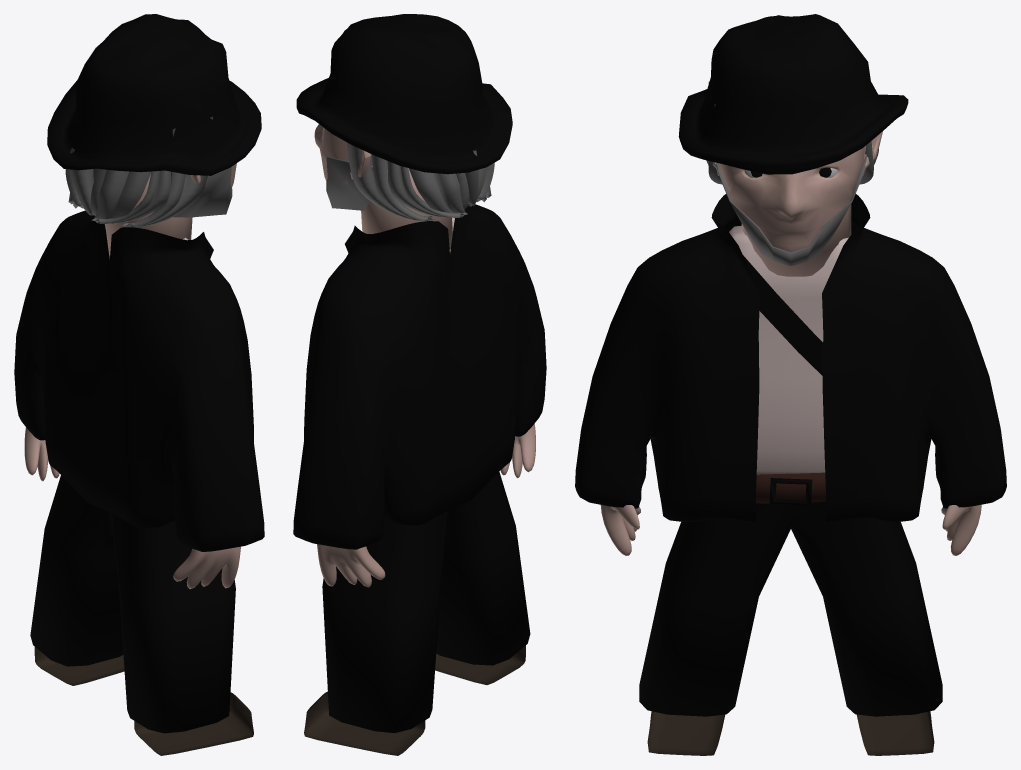
File: character6.fbx
3 views of the same model, side by side, from view 1: azimuth 30°, elevation 25°; view 2: azimuth 150°, elevation 25°; view 3: azimuth 270°, elevation 25° (orthographic). The views are drawn at different scales.
Parts seen in each view (by area): view 1: Cube.018, Cube.020, Sphere.006, Cube.019, Cube.024, BezierCurve.014, BezierCurve.007, Plane.015, BezierCurve.013, Cylinder.005, BezierCurve.016; view 2: Cube.018, Cube.020, Sphere.006, Cube.019, Cube.024, BezierCurve.007, BezierCurve.014, Plane.015, Cylinder.005, BezierCurve.013, Object_low.001, BezierCurve.015; view 3: Cube.018, Cube.020, Sphere.006, Cube.017, Object_low.001, Cube.019, Cube.024, Plane.022, Plane.015, Cube.030, Cylinder.005.
Part boxes in pixels (bbox=[...]): Cube.018: bbox=[14, 210, 264, 551]; Cube.020: bbox=[30, 475, 235, 733]; Sphere.006: bbox=[47, 14, 261, 175]; Cube.019: bbox=[34, 647, 253, 755]; Cube.024: bbox=[24, 427, 240, 588]; BezierCurve.014: bbox=[65, 169, 151, 219]; BezierCurve.007: bbox=[122, 116, 212, 227]; Plane.015: bbox=[171, 167, 232, 217]; BezierCurve.013: bbox=[68, 170, 170, 223]; Cylinder.005: bbox=[104, 174, 192, 255]; BezierCurve.016: bbox=[69, 148, 97, 215]; Cube.018: bbox=[293, 204, 546, 549]; Cube.020: bbox=[322, 472, 530, 732]; Sphere.006: bbox=[296, 14, 512, 174]; Cube.019: bbox=[304, 645, 525, 755]; Cube.024: bbox=[317, 424, 535, 587]; BezierCurve.007: bbox=[347, 142, 436, 220]; BezierCurve.014: bbox=[408, 163, 494, 212]; Plane.015: bbox=[326, 156, 387, 210]; Cylinder.005: bbox=[361, 168, 452, 249]; BezierCurve.013: bbox=[388, 161, 491, 217]; Object_low.001: bbox=[314, 124, 348, 183]; BezierCurve.015: bbox=[456, 167, 486, 209]; Cube.018: bbox=[575, 194, 1006, 524]; Cube.020: bbox=[639, 501, 942, 716]; Sphere.006: bbox=[678, 14, 908, 174]; Cube.017: bbox=[729, 225, 848, 474]; Object_low.001: bbox=[719, 146, 864, 252]; Cube.019: bbox=[647, 711, 934, 755]; Cube.024: bbox=[600, 504, 981, 555]; Plane.022: bbox=[743, 255, 822, 375]; Plane.015: bbox=[716, 154, 867, 266]; Cube.030: bbox=[756, 472, 825, 503]; Cylinder.005: bbox=[741, 204, 851, 276].
Size of the model in its own units: 50.76 by 175 by 95.54.
